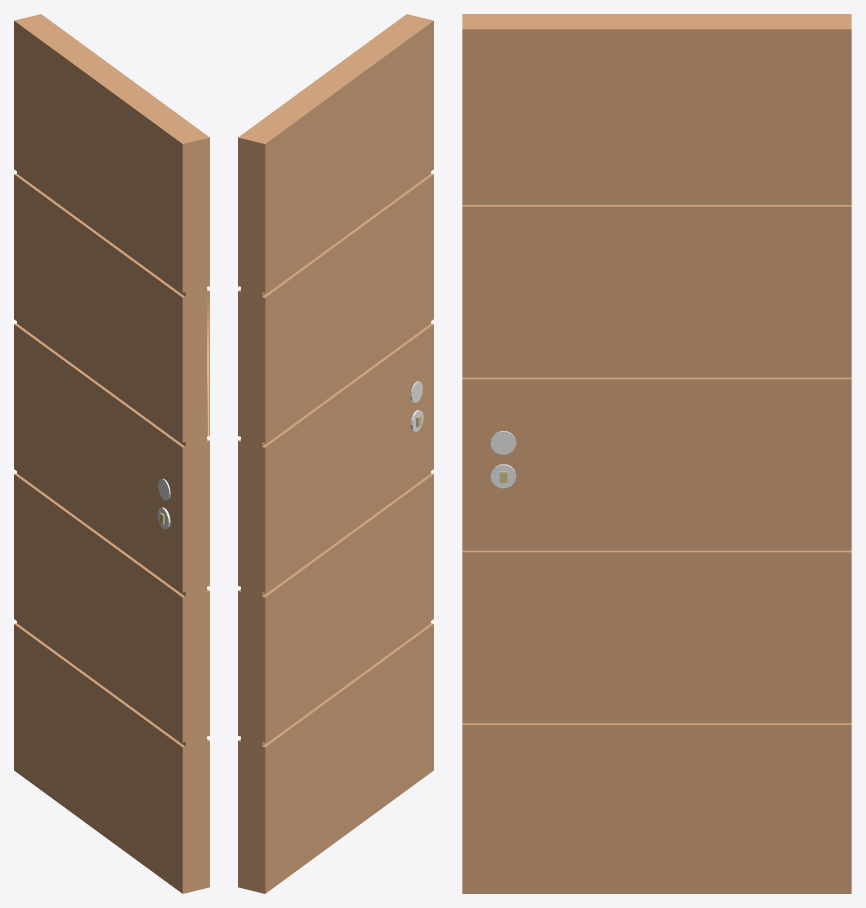
Rendered from door_wood.glb.
3 views of the same model, side by side, from view 1: azimuth 30°, elevation 25°; view 2: azimuth 150°, elevation 25°; view 3: azimuth 270°, elevation 25° (orthographic). The views are drawn at different scales.
Visible parts, largest first — view 1: PORTA; view 2: PORTA; view 3: PORTA.
Part boxes in pixels (x1,y1,x2,y2): PORTA: [14, 14, 209, 893]; PORTA: [238, 14, 433, 893]; PORTA: [462, 14, 851, 893].
Bounding box in the file's own units: 0.4428 × 9.23 × 3.76.
